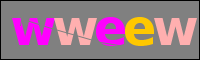e: (94, 16, 125, 48), (125, 16, 155, 47)
w: (153, 16, 199, 48), (54, 16, 97, 48), (10, 17, 56, 46)
